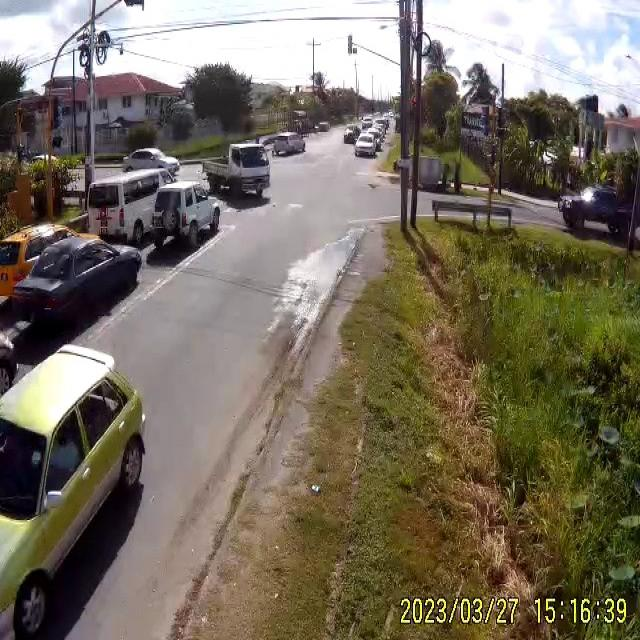car: (2, 235, 142, 334), (2, 223, 82, 302), (563, 188, 619, 238), (125, 148, 182, 176), (265, 133, 307, 158), (356, 134, 377, 157)
truck: (150, 175, 224, 252), (226, 144, 272, 199)
